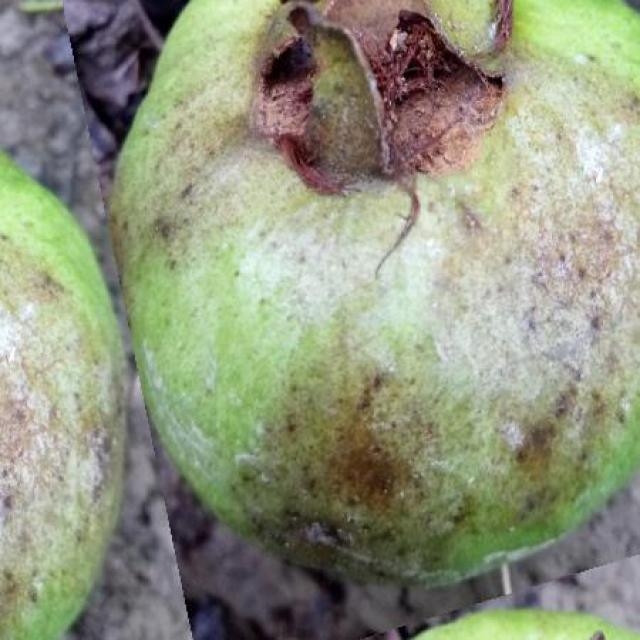Styler and Root: (111, 0, 640, 581), (0, 152, 125, 639)
